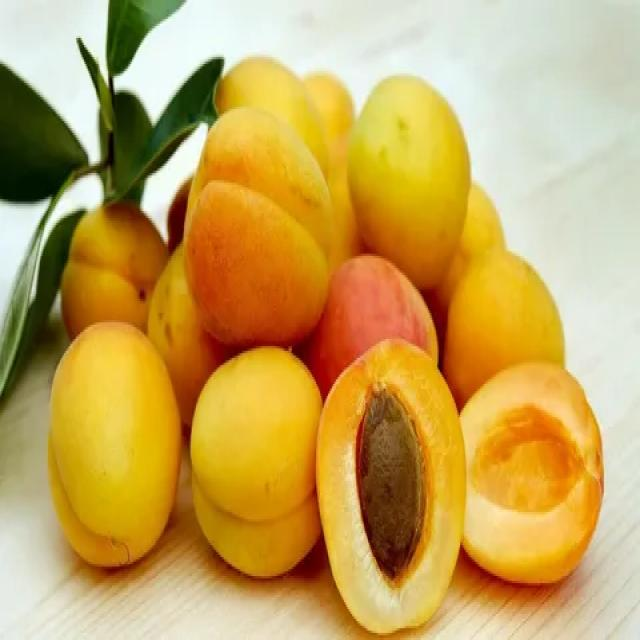Cekirdek: (356, 384, 425, 578)
Kayisi: (193, 348, 321, 576)
Yaprak: (0, 64, 87, 197)
